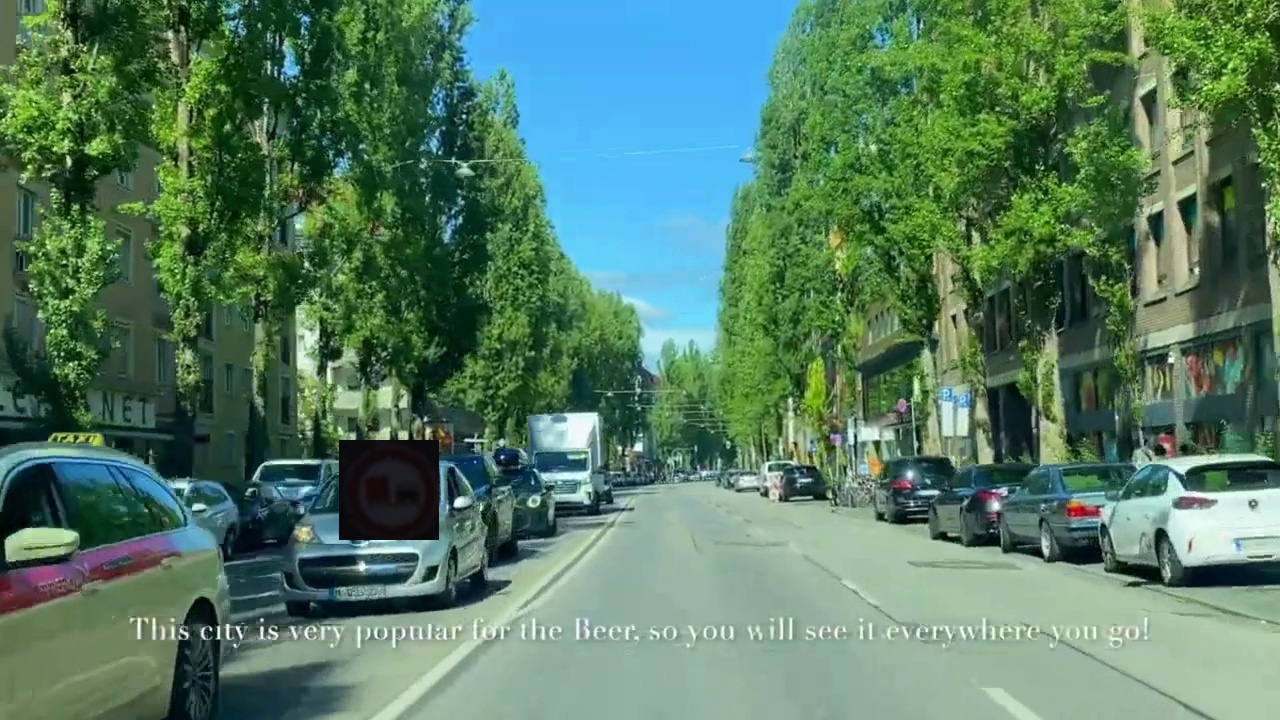No pass >3.5t: (339, 440, 439, 540)
